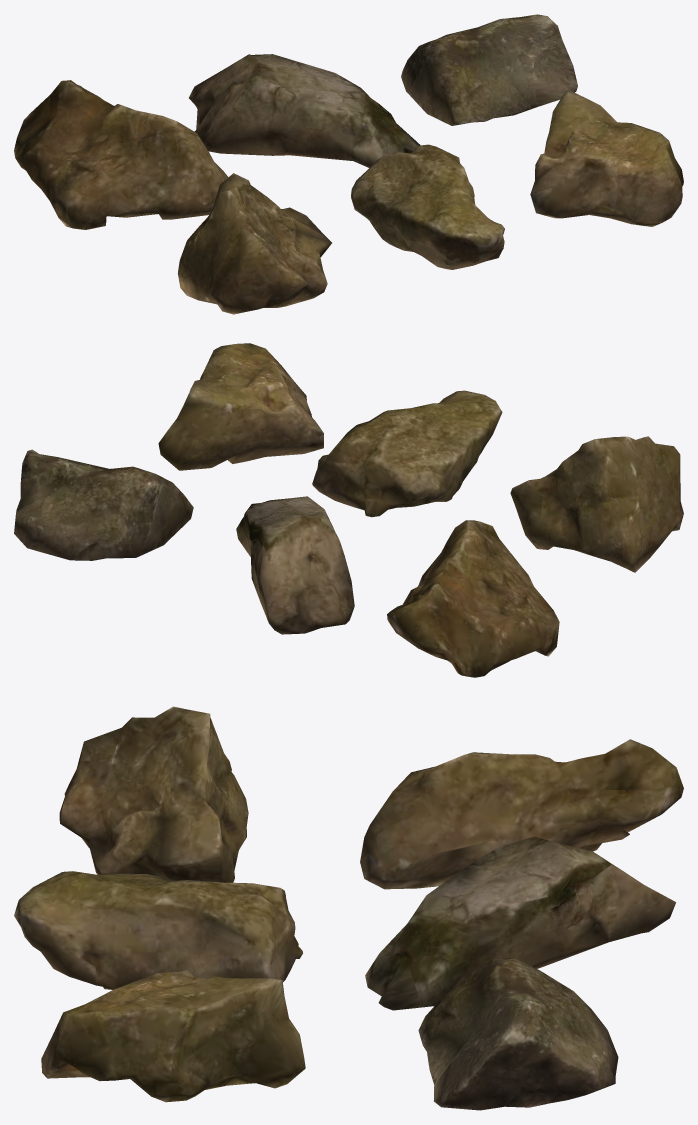
File: rock_moss_set_01.glb
3 renders of one model, top to bottom at view 1: azimuth 30°, elevation 25°; view 2: azimuth 150°, elevation 25°; view 3: azimuth 270°, elevation 25°, orthographic. The views are drawn at different scales.
Parts seen in each view (by area): view 1: rock_moss_set_01_rock01, rock_moss_set_01_rock02, rock_moss_set_01_rock06, rock_moss_set_01_rock04, rock_moss_set_01_rock03, rock_moss_set_01_rock05; view 2: rock_moss_set_01_rock04, rock_moss_set_01_rock01, rock_moss_set_01_rock05, rock_moss_set_01_rock03, rock_moss_set_01_rock06, rock_moss_set_01_rock02; view 3: rock_moss_set_01_rock01, rock_moss_set_01_rock02, rock_moss_set_01_rock05, rock_moss_set_01_rock06, rock_moss_set_01_rock04, rock_moss_set_01_rock03.
Part boxes in pixels (x1=…): rock_moss_set_01_rock01: x1=14, y1=80, x2=228, y2=229; rock_moss_set_01_rock02: x1=189, y1=54, x2=420, y2=167; rock_moss_set_01_rock06: x1=530, y1=90, x2=683, y2=226; rock_moss_set_01_rock04: x1=177, y1=173, x2=331, y2=314; rock_moss_set_01_rock03: x1=401, y1=14, x2=577, y2=125; rock_moss_set_01_rock05: x1=351, y1=144, x2=504, y2=269; rock_moss_set_01_rock04: x1=510, y1=436, x2=683, y2=572; rock_moss_set_01_rock01: x1=387, y1=520, x2=559, y2=677; rock_moss_set_01_rock05: x1=312, y1=390, x2=502, y2=517; rock_moss_set_01_rock03: x1=14, y1=449, x2=193, y2=560; rock_moss_set_01_rock06: x1=158, y1=343, x2=323, y2=470; rock_moss_set_01_rock02: x1=236, y1=496, x2=354, y2=634; rock_moss_set_01_rock01: x1=360, y1=739, x2=683, y2=889; rock_moss_set_01_rock02: x1=365, y1=836, x2=675, y2=1010; rock_moss_set_01_rock05: x1=14, y1=871, x2=302, y2=989; rock_moss_set_01_rock06: x1=41, y1=970, x2=305, y2=1102; rock_moss_set_01_rock04: x1=59, y1=706, x2=248, y2=882; rock_moss_set_01_rock03: x1=418, y1=958, x2=618, y2=1110.
Size of the model in its own units: 8 by 1.76 by 6.94.
1 material, 1 textured.
